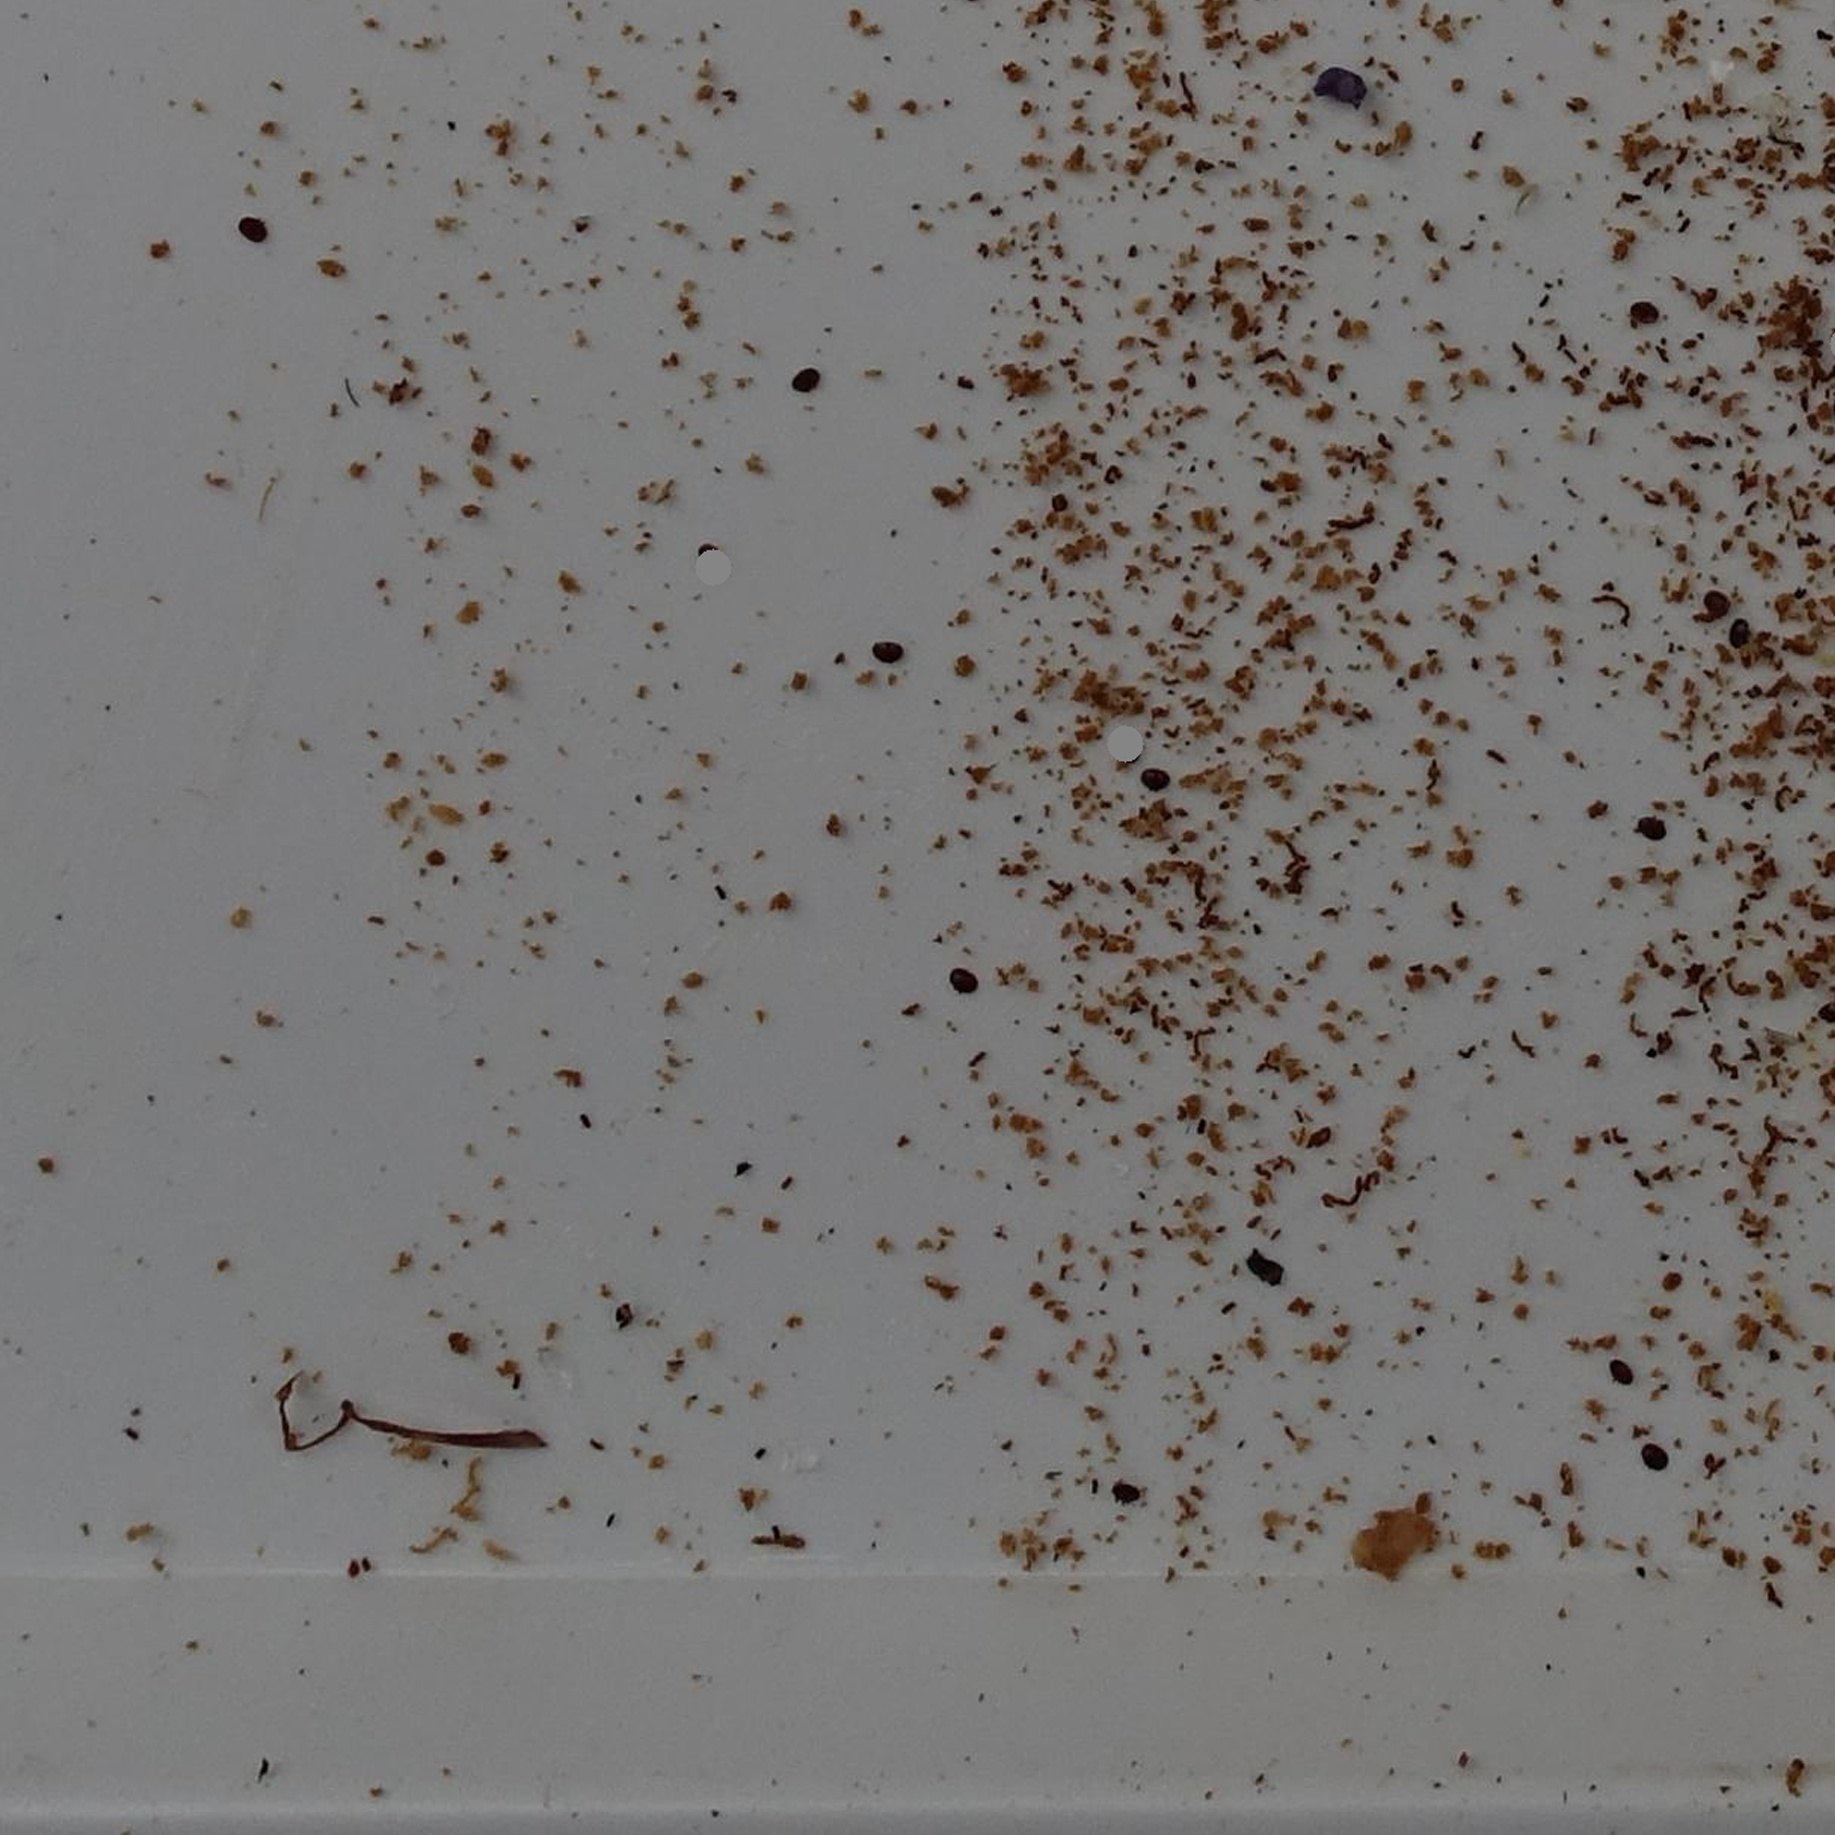Varroa: (1729, 618, 1759, 649), (1114, 1479, 1144, 1507), (1638, 1440, 1669, 1469), (1702, 590, 1729, 613), (795, 365, 817, 390), (1640, 817, 1664, 839), (1144, 768, 1166, 790), (877, 639, 896, 660), (247, 217, 260, 230), (960, 968, 971, 981), (1632, 309, 1643, 323), (702, 549, 714, 561), (1615, 1364, 1627, 1376)
